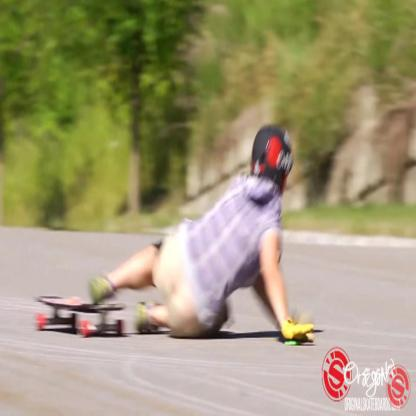Fall_Down: (89, 125, 321, 347)
